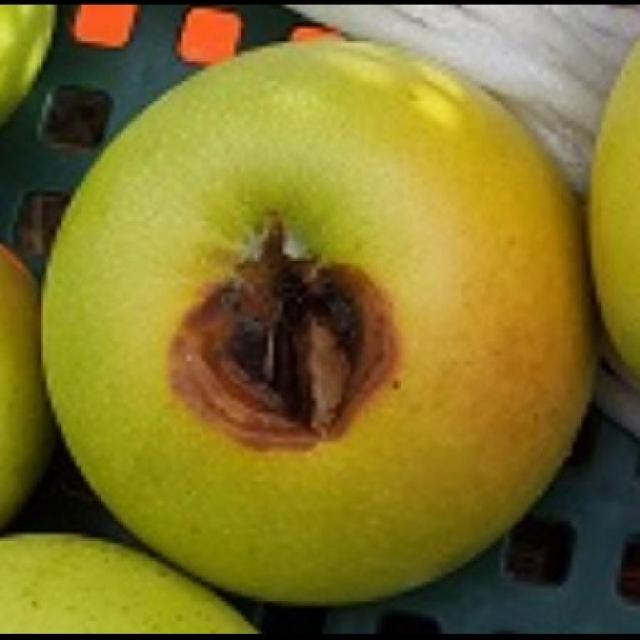Rotten Apple: (32, 34, 603, 606)
